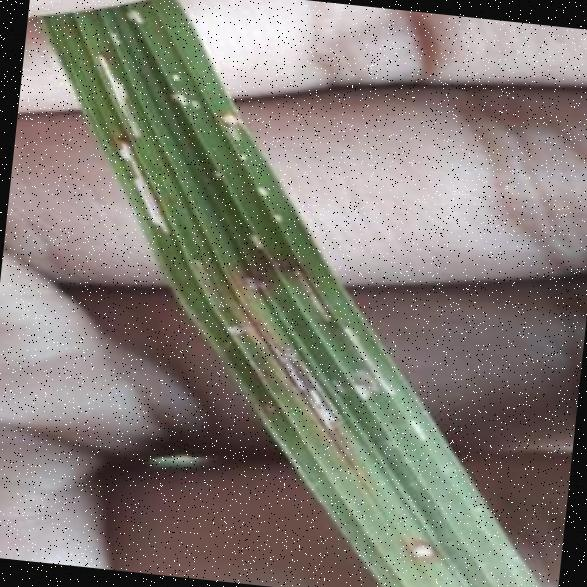Leaf_smut: (247, 323, 358, 458), (270, 242, 368, 337), (76, 42, 162, 147), (105, 139, 189, 242), (215, 246, 298, 318), (180, 241, 236, 324), (246, 382, 304, 428)
